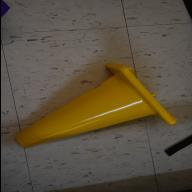cone: (13, 62, 178, 148)
cube: (0, 0, 10, 18)
